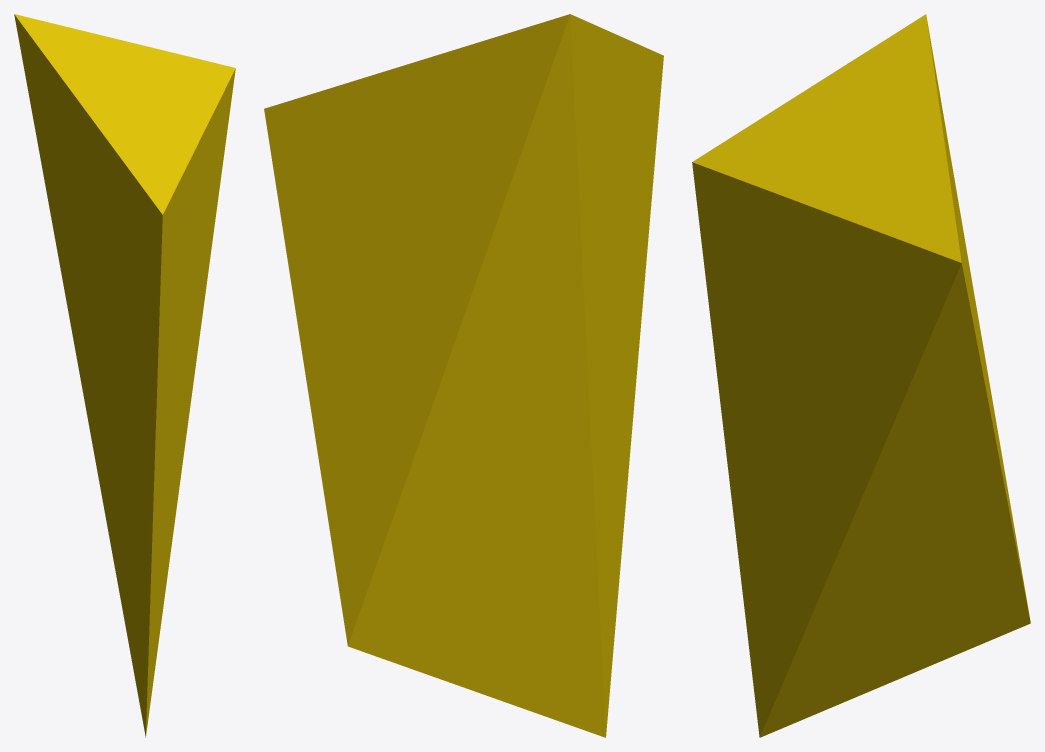
The model's file is Cristal.004.fbx.
3 views of the same model, side by side, from view 1: azimuth 30°, elevation 25°; view 2: azimuth 150°, elevation 25°; view 3: azimuth 270°, elevation 25° (orthographic). The views are drawn at different scales.
Visible parts, largest first — view 1: Icosphere.005; view 2: Icosphere.005; view 3: Icosphere.005.
Boxes of the visible parts, x1=… form: Icosphere.005: x1=14, y1=14, x2=235, y2=737; Icosphere.005: x1=264, y1=14, x2=663, y2=737; Icosphere.005: x1=692, y1=14, x2=1030, y2=737.
Size of the model in its own units: 147 by 397 by 174.
